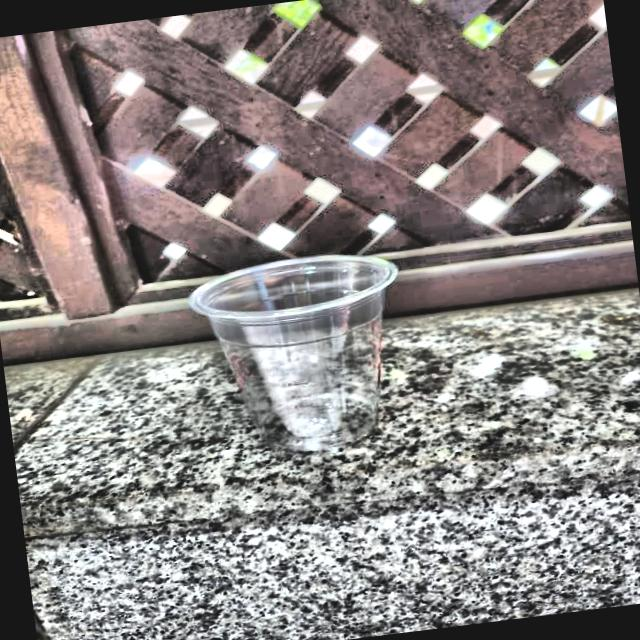plastic cup: (175, 235, 448, 474)
